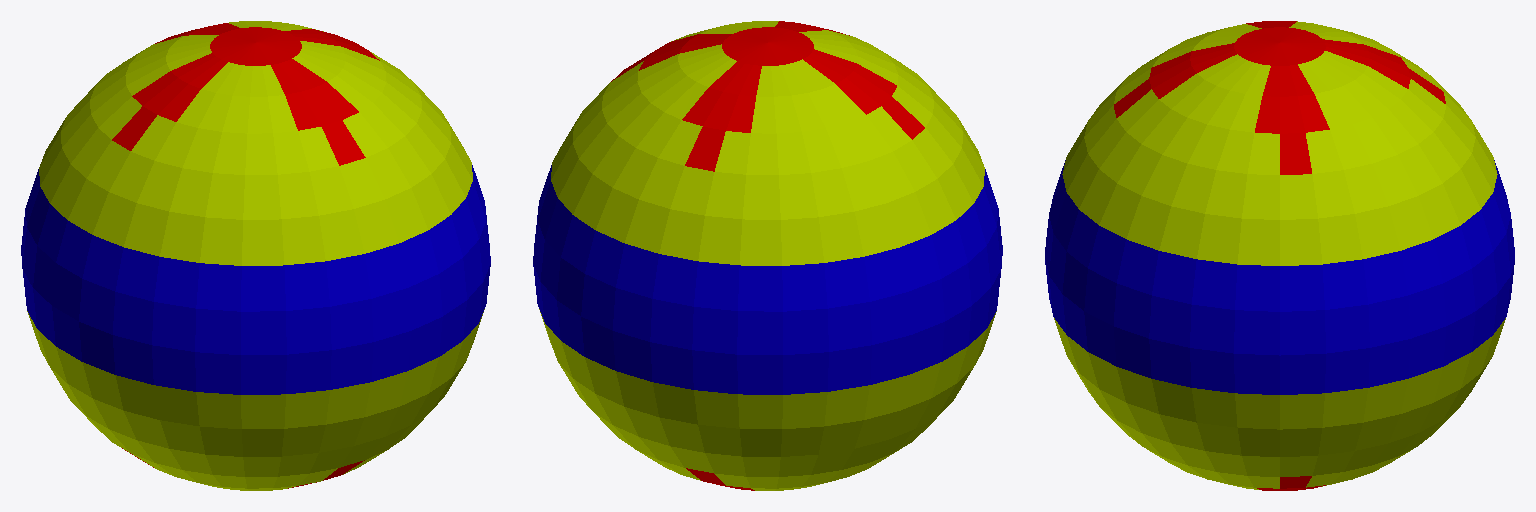
The model's file is Ball.obj.
3 views of the same model, side by side, from view 1: azimuth 30°, elevation 25°; view 2: azimuth 150°, elevation 25°; view 3: azimuth 270°, elevation 25° (orthographic).
Parts seen in each view (by area): view 1: Sphere; view 2: Sphere; view 3: Sphere.
Part boxes in pixels (x1,y1,x2,y2): Sphere: (21, 21, 490, 490); Sphere: (533, 21, 1002, 490); Sphere: (1045, 21, 1514, 490).
Size of the model in its own units: 2 by 2 by 2.